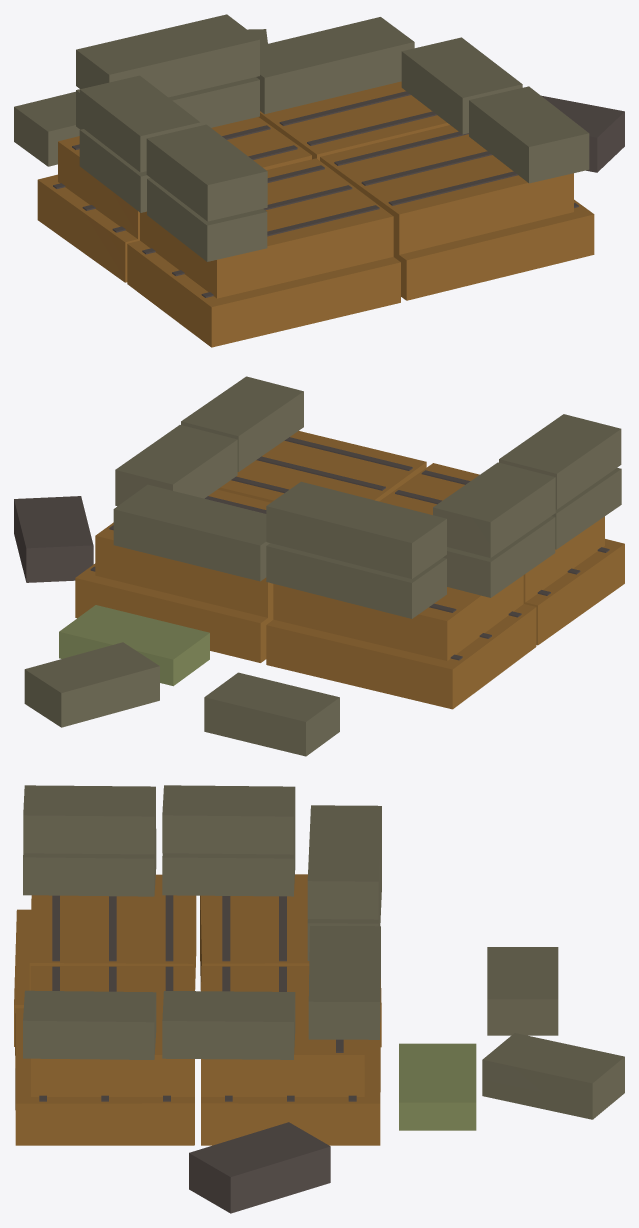
Rendered from SM_Nido_v4_LOD0.fbx.
The picture shows the model from 3 angles, top to bottom: view 1: azimuth 30°, elevation 25°; view 2: azimuth 150°, elevation 25°; view 3: azimuth 270°, elevation 25°; orthographic projection. The views are drawn at different scales.
Visible parts, largest first — view 1: SM_banqueta_tiro_v9_LOD0; view 2: SM_banqueta_tiro_v9_LOD0; view 3: SM_banqueta_tiro_v9_LOD0.
Part boxes in pixels (x1=…): SM_banqueta_tiro_v9_LOD0: x1=14, y1=14, x2=624, y2=347; SM_banqueta_tiro_v9_LOD0: x1=14, y1=376, x2=624, y2=756; SM_banqueta_tiro_v9_LOD0: x1=14, y1=785, x2=624, y2=1213.
Size of the model in its own units: 4.01 by 1.18 by 3.95.
